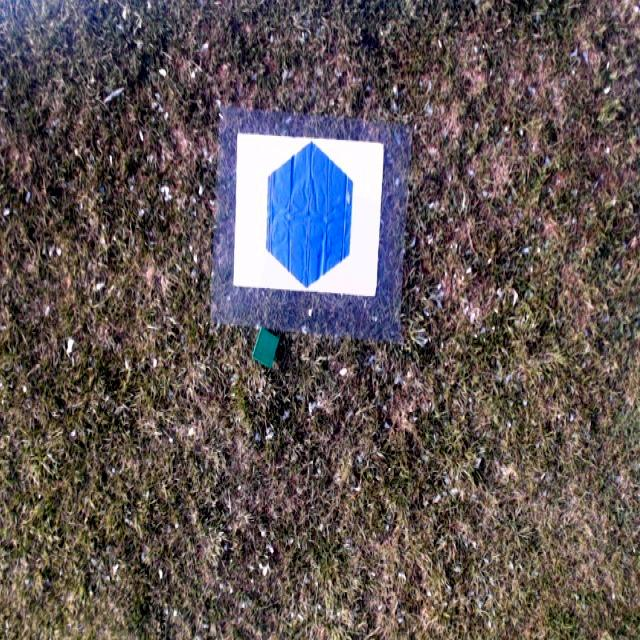blue_hexagon: (265, 140, 353, 289)
